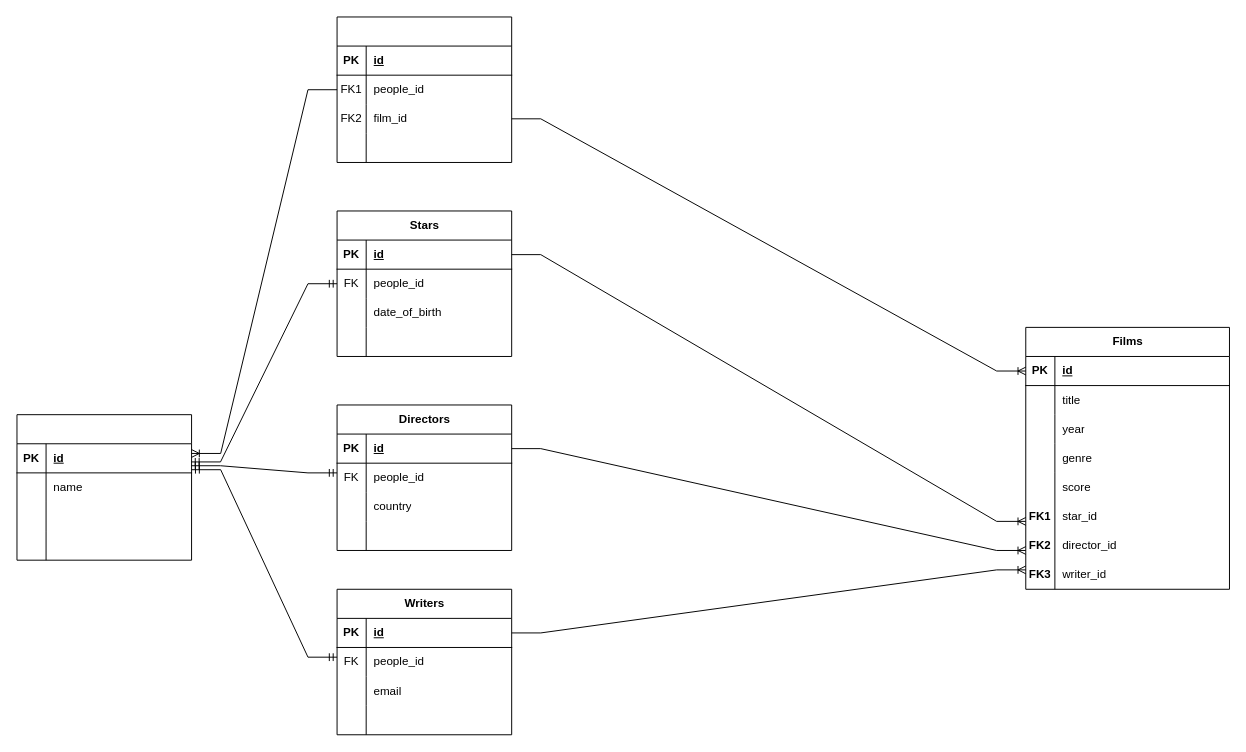
The diagram is 1246 pixels wide and 752 high, and some of its shapes have lost their labels. The shapes that lost their labels are listed below. From the top down, each one's box as (x1, y1, x2, y2) in pixels, then its label:
(336, 16, 512, 162): Casts
(16, 414, 192, 560): People
